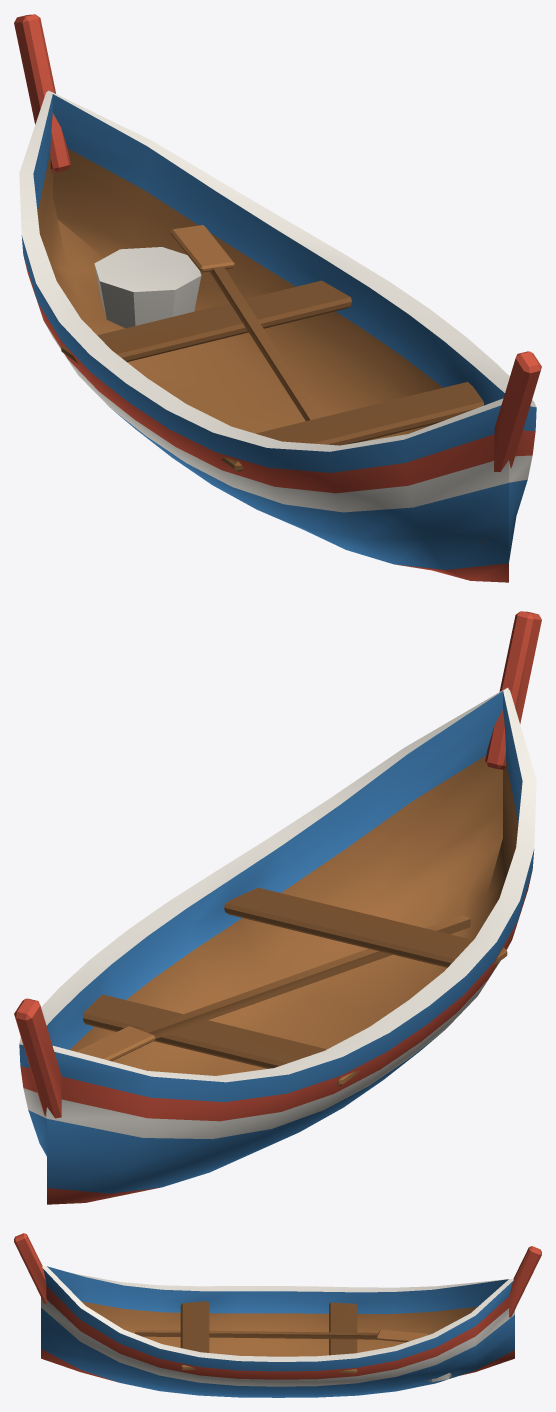
The model's file is perahu.glb.
3 renders of one model, top to bottom at view 1: azimuth 30°, elevation 25°; view 2: azimuth 150°, elevation 25°; view 3: azimuth 270°, elevation 25°, orthographic. The views are drawn at different scales.
Parts seen in each view (by area): view 1: perahu_mesh; view 2: perahu_mesh; view 3: perahu_mesh.
Boxes of the visible parts, x1=… form: perahu_mesh: x1=14, y1=14, x2=541, y2=582; perahu_mesh: x1=14, y1=611, x2=541, y2=1204; perahu_mesh: x1=14, y1=1233, x2=541, y2=1397.
Size of the model in its own units: 1.52 by 1.46 by 4.45.
